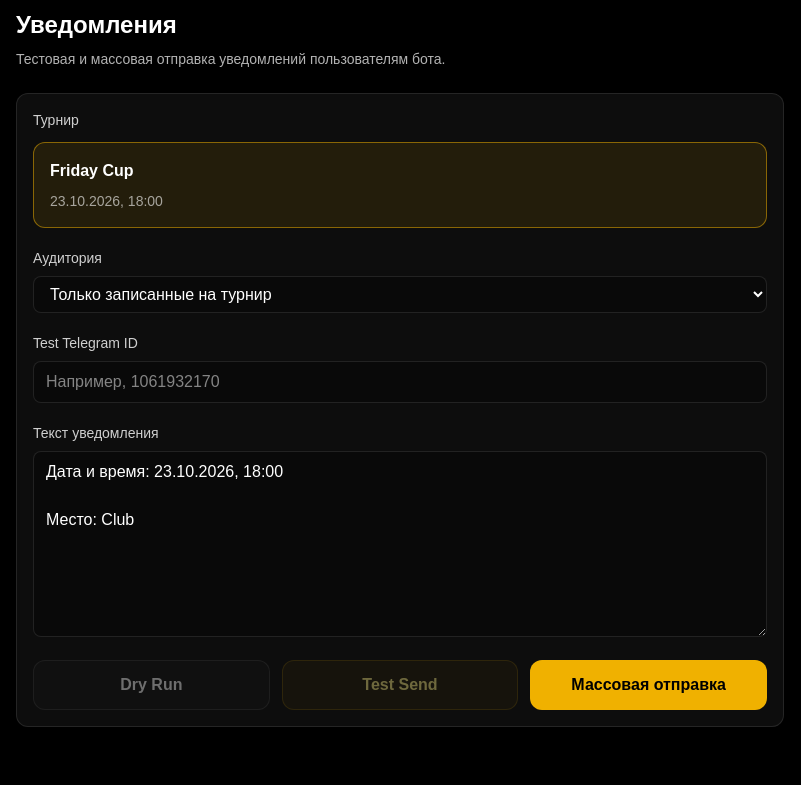
Test: real mass send is never auto-retried › [2] 504 on the confirmed real send -> exactly ONE real POST, error surfaced
Click the button "Массовая отправка" at (649, 685), box [530,660,767,710]
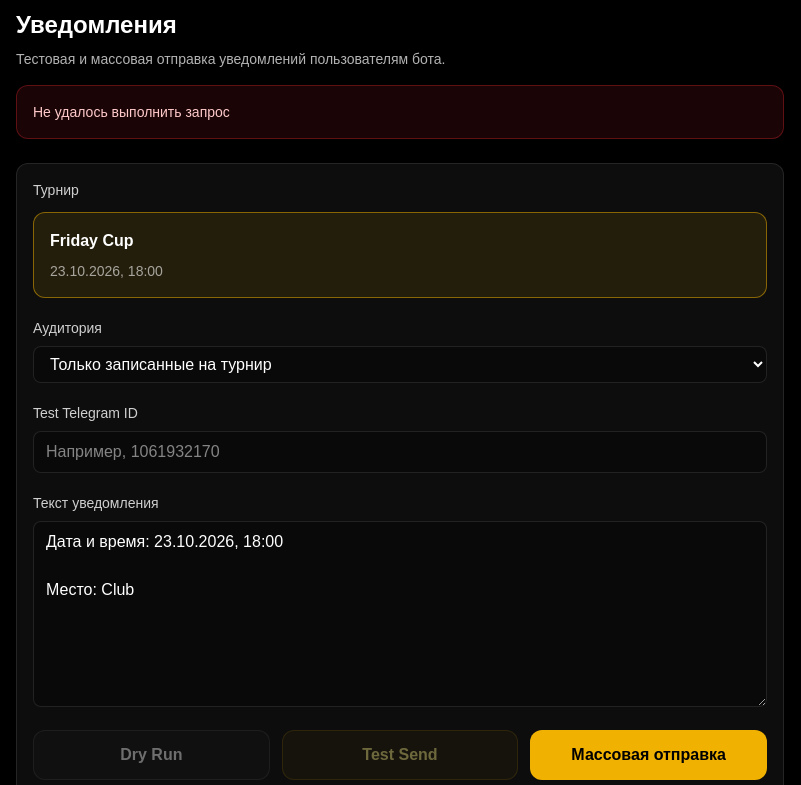
Expected: the text "Не удалось выполнить запрос" is shown, [16,85,784,139]
